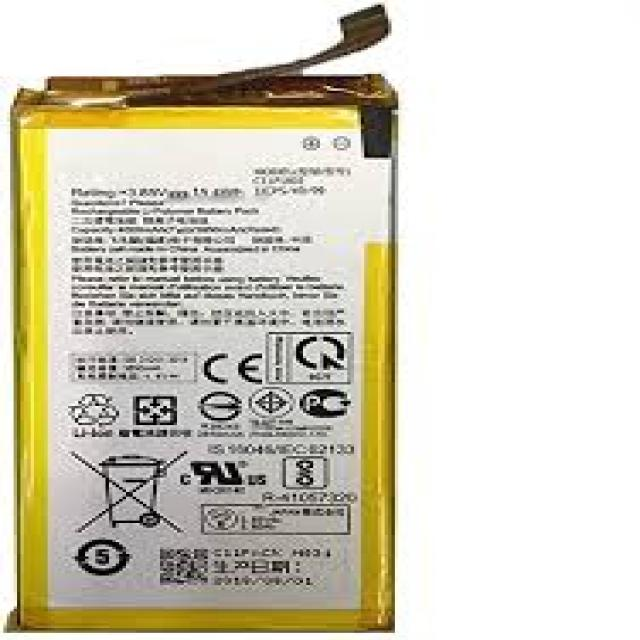non-organic waste: (8, 2, 442, 634)
